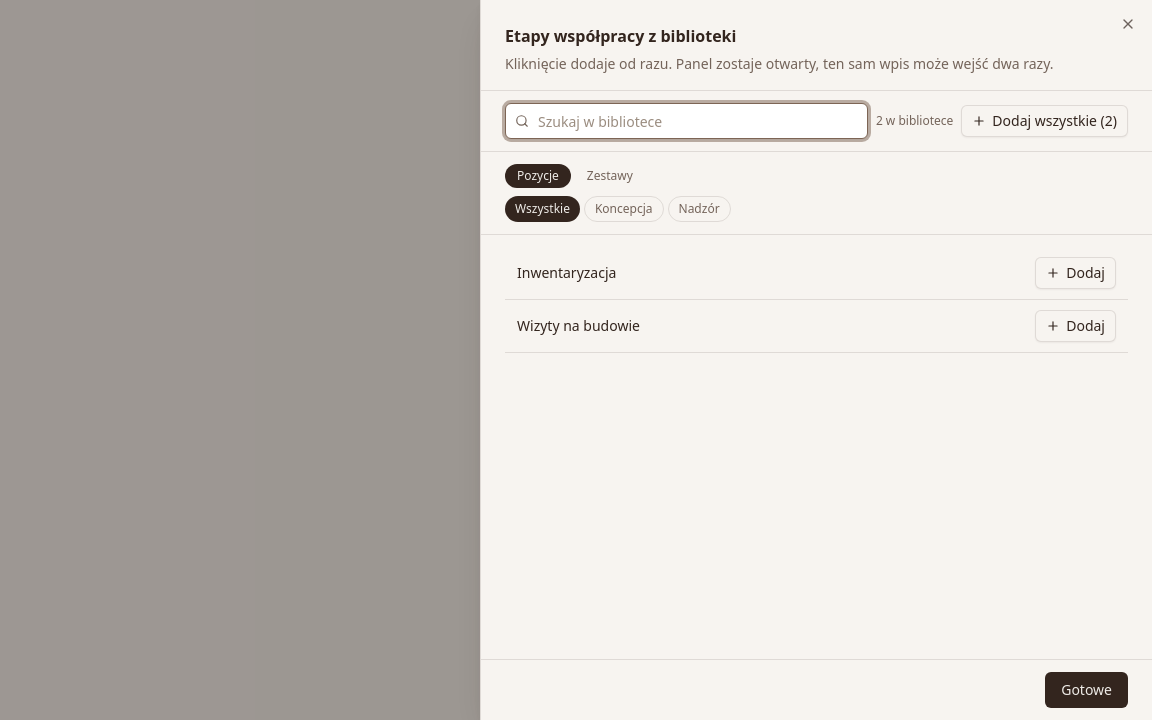
Test case: DocLibraryPanel — grupy i zestawy (T-121) › filtr grup zawęża listę wpisów
The width and height of the screenshot is (1152, 720).
Expected: the text "Wizyty na budowie" is shown, [517,316,640,335]
Click the button "Koncepcja".
click(624, 209)  # box [584,196,664,222]
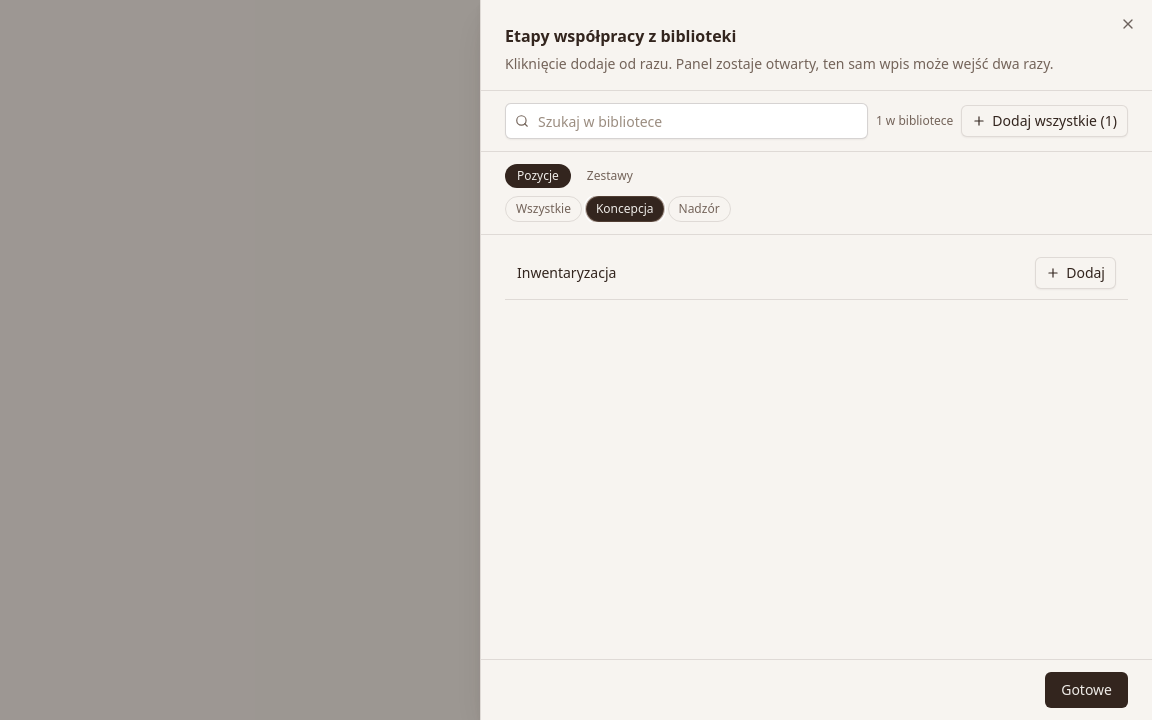
Expected: the text "Inwentaryzacja" is shown, [517,263,616,282]
Result: the text "Wizyty na budowie" is gone
